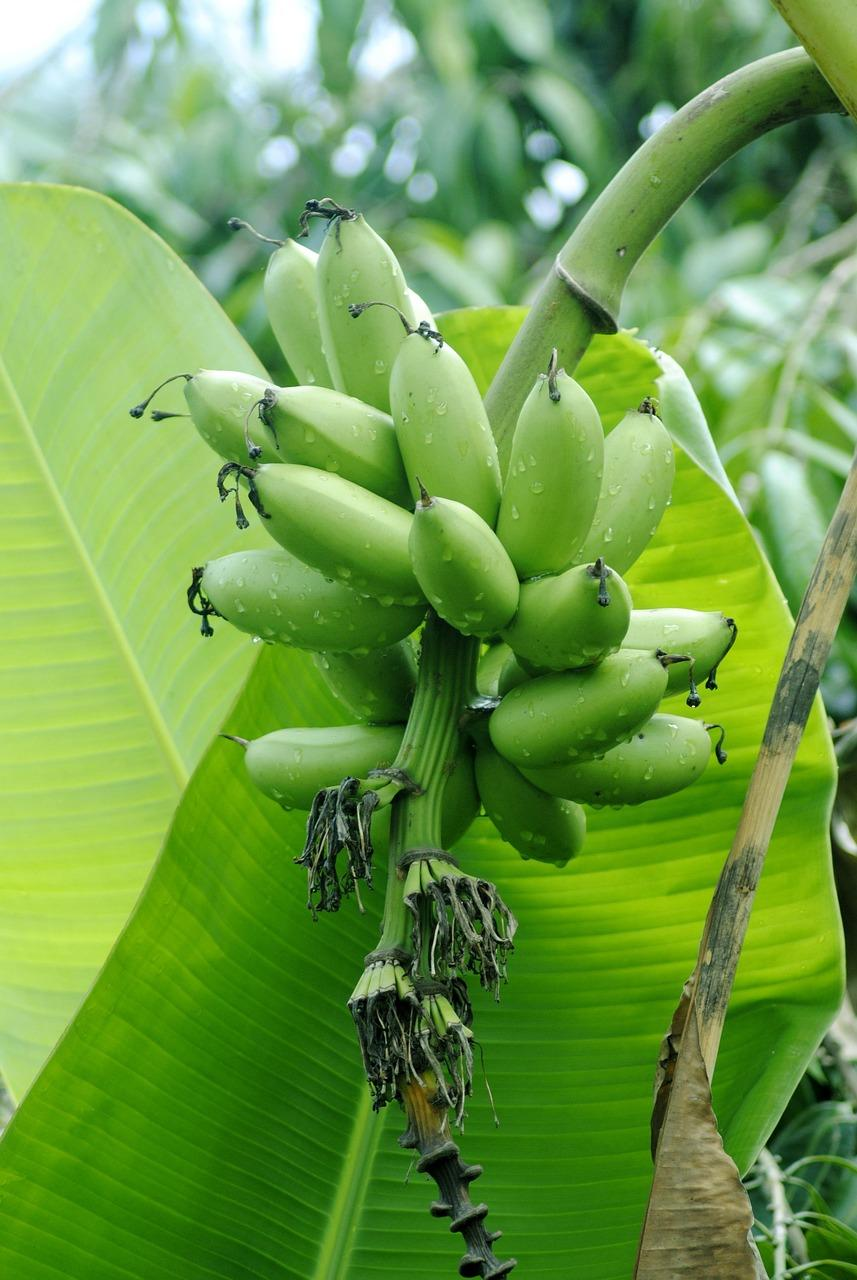banana: (142, 176, 779, 908)
